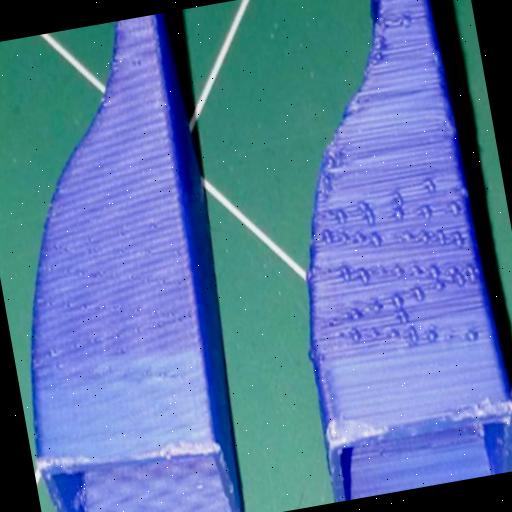blobs: (406, 318, 424, 348), (423, 318, 442, 346), (353, 264, 370, 289), (338, 260, 354, 286), (408, 278, 424, 304), (392, 290, 409, 314), (453, 266, 468, 292), (416, 224, 432, 248), (450, 225, 464, 252), (351, 223, 367, 246), (352, 196, 370, 216), (446, 198, 464, 218), (442, 322, 457, 346), (335, 226, 351, 248), (426, 260, 442, 281), (390, 256, 405, 278), (423, 174, 439, 194), (366, 324, 382, 344), (465, 264, 480, 284), (420, 203, 434, 224), (390, 190, 406, 208), (320, 225, 336, 243), (400, 228, 416, 246), (444, 260, 458, 280), (370, 296, 384, 314), (386, 324, 400, 341), (350, 328, 364, 345), (335, 204, 347, 223), (434, 226, 446, 244), (466, 328, 478, 346), (369, 228, 382, 244), (392, 206, 404, 222), (397, 304, 409, 320), (372, 296, 383, 313)
